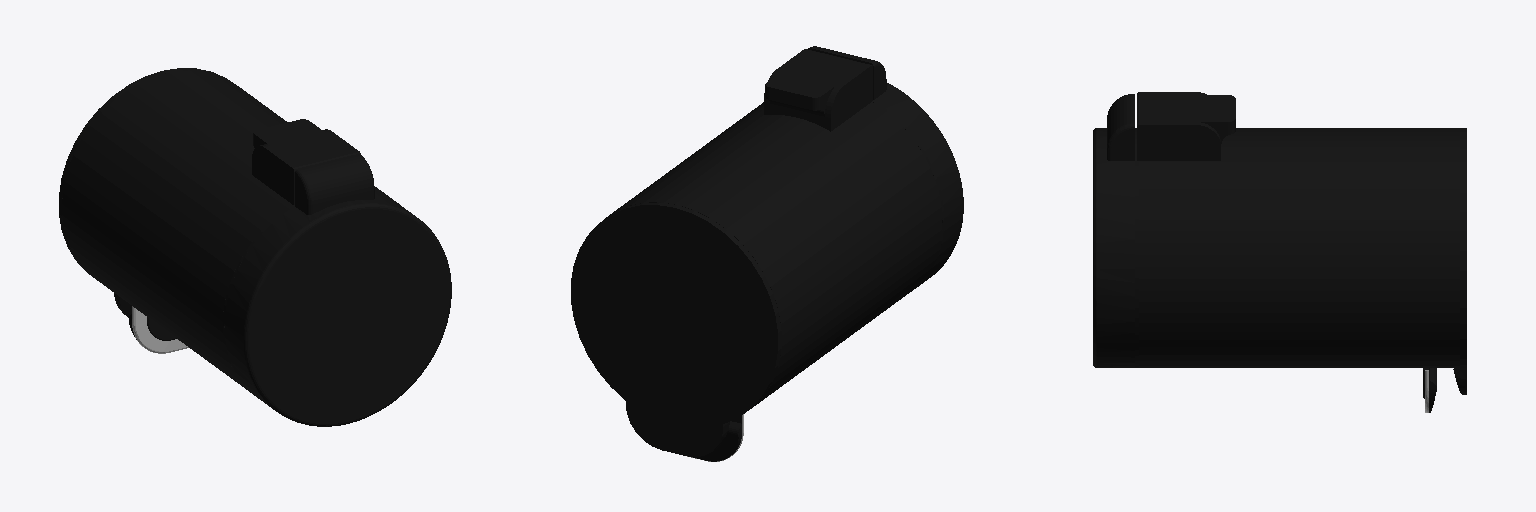
Rendered from Sanitary_Sanitary-Accessories_HEWI_HEWI-Waste-bin-950-05-30501.obj.
3 renders of one model, left to right at view 1: azimuth 30°, elevation 25°; view 2: azimuth 150°, elevation 25°; view 3: azimuth 270°, elevation 25°, orthographic.
Parts seen in each view (by area): view 1: default; view 2: default; view 3: default.
Part boxes in pixels (x1,y1,x2,y2): default: (59, 68, 451, 426); default: (571, 46, 963, 461); default: (1093, 92, 1466, 412).
Bounding box in the file's own units: 170 × 230 × 265.